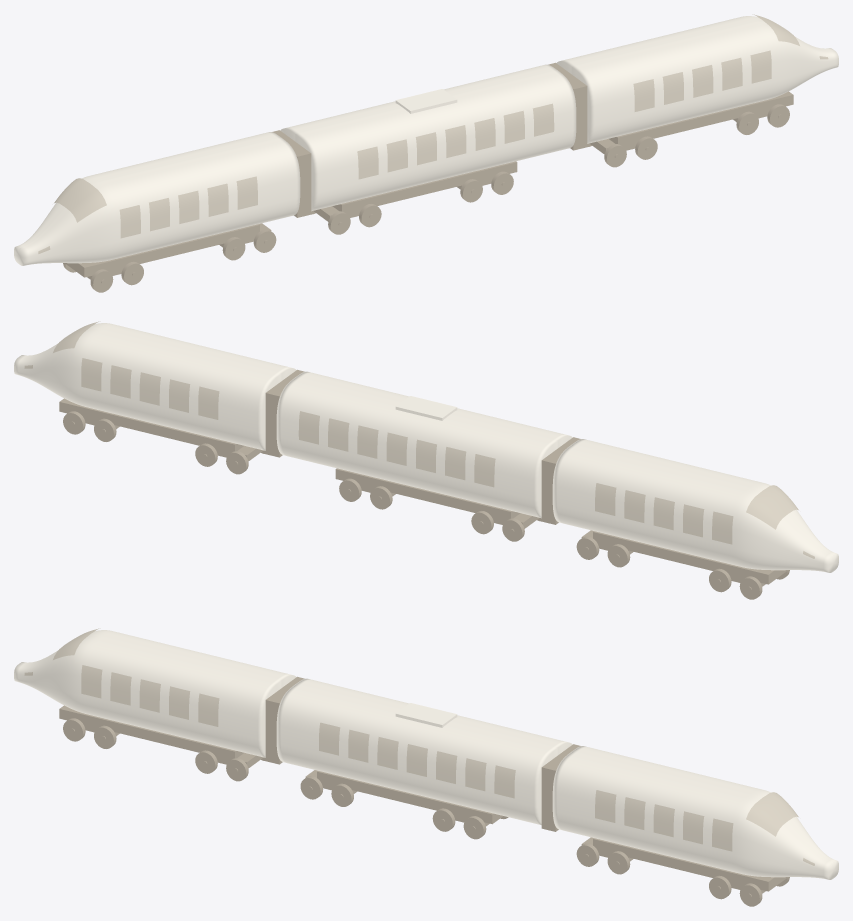
The model's file is high-speed-train.glb.
3 renders of one model, top to bottom at view 1: azimuth 30°, elevation 25°; view 2: azimuth 150°, elevation 25°; view 3: azimuth 330°, elevation 25°, orthographic.
Visible parts, largest first — view 1: Passenger carriage, Rear power car, Front power car, Passenger carriage passenger window (×7), Rear power car passenger window (×5), Front power car passenger window (×5), Flexible gangway (×2), Rear power car underfloor equipment, Front power car underfloor equipment, Passenger carriage underfloor equipment, Rear power car windscreen, Roof ventilation unit; view 2: Passenger carriage, Rear power car, Front power car, Passenger carriage passenger window (×7), Front power car passenger window (×5), Rear power car passenger window (×5), Flexible gangway (×2), Rear power car underfloor equipment, Front power car underfloor equipment, Passenger carriage underfloor equipment, Rear power car windscreen, Roof ventilation unit; view 3: Passenger carriage, Front power car, Rear power car, Passenger carriage passenger window (×7), Rear power car passenger window (×5), Front power car passenger window (×5), Flexible gangway (×2), Front power car underfloor equipment, Rear power car underfloor equipment, Passenger carriage underfloor equipment, Front power car windscreen, Roof ventilation unit.
Part boxes in pixels (x1,y1,x2,y2): Passenger carriage: [280, 64, 576, 211]; Rear power car: [14, 132, 300, 265]; Front power car: [556, 16, 838, 143]; Passenger carriage passenger window (×7): [357, 103, 554, 179]; Rear power car passenger window (×5): [119, 176, 257, 238]; Front power car passenger window (×5): [633, 50, 771, 111]; Flexible gangway (×2): [272, 62, 587, 217]; Rear power car underfloor equipment: [65, 224, 259, 277]; Front power car underfloor equipment: [609, 91, 793, 146]; Passenger carriage underfloor equipment: [332, 161, 517, 213]; Rear power car windscreen: [54, 178, 106, 222]; Roof ventilation unit: [395, 89, 457, 113]; Passenger carriage: [276, 371, 572, 518]; Rear power car: [552, 439, 838, 572]; Front power car: [14, 323, 296, 450]; Passenger carriage passenger window (×7): [298, 411, 495, 487]; Front power car passenger window (×5): [81, 358, 219, 419]; Rear power car passenger window (×5): [595, 483, 733, 544]; Flexible gangway (×2): [265, 369, 580, 524]; Rear power car underfloor equipment: [593, 531, 787, 584]; Front power car underfloor equipment: [59, 398, 243, 453]; Passenger carriage underfloor equipment: [335, 468, 520, 520]; Rear power car windscreen: [746, 485, 798, 529]; Roof ventilation unit: [395, 396, 457, 420]; Passenger carriage: [276, 678, 572, 825]; Front power car: [552, 746, 838, 879]; Rear power car: [14, 630, 296, 757]; Passenger carriage passenger window (×7): [319, 722, 515, 798]; Rear power car passenger window (×5): [81, 665, 219, 726]; Front power car passenger window (×5): [595, 790, 733, 851]; Flexible gangway (×2): [265, 676, 580, 831]; Front power car underfloor equipment: [593, 838, 787, 891]; Rear power car underfloor equipment: [59, 705, 243, 760]; Passenger carriage underfloor equipment: [317, 771, 503, 824]; Front power car windscreen: [746, 792, 798, 836]; Roof ventilation unit: [395, 703, 457, 727].
Bounding box in the file's own units: 34.8 × 4.04 × 2.93.
